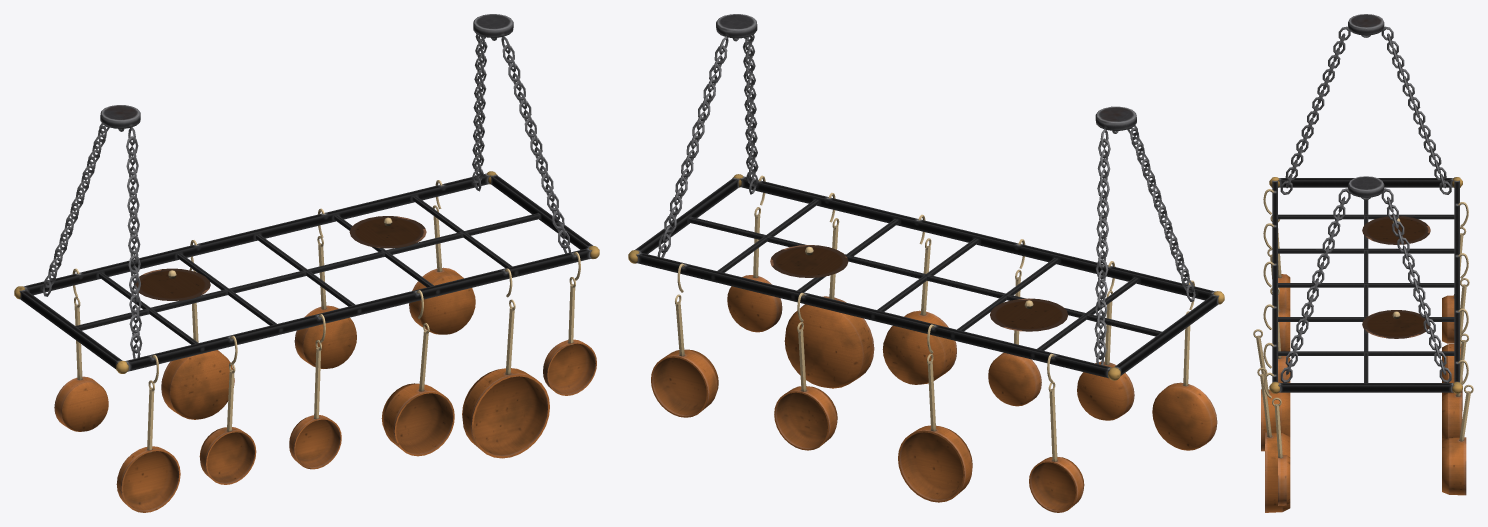
The model's file is PotRack.fbx.
3 renders of one model, left to right at view 1: azimuth 30°, elevation 25°; view 2: azimuth 150°, elevation 25°; view 3: azimuth 270°, elevation 25°, orthographic. The views are drawn at different scales.
Parts seen in each view (by area): view 1: PotRack; view 2: PotRack; view 3: PotRack.
Boxes of the visible parts, left/top/right/bottom form: PotRack: left=14, top=14, right=599, bottom=512; PotRack: left=628, top=14, right=1224, bottom=512; PotRack: left=1253, top=14, right=1473, bottom=512.
Bounding box in the file's own units: 491 × 374 × 218.
